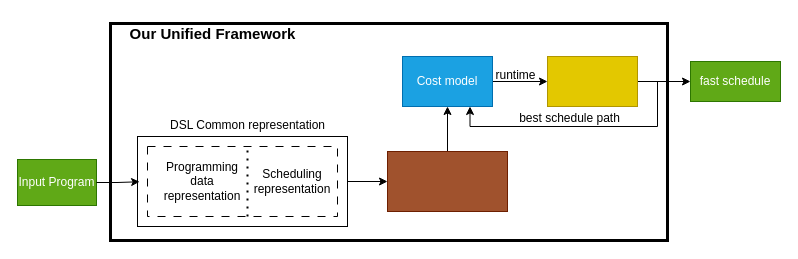
Image size: 798x259. Some labels were removed from this diagram. Each missing label, with the centre of its shape:
Beam Search on schedules: (592,81)
Search space: (447,181)
